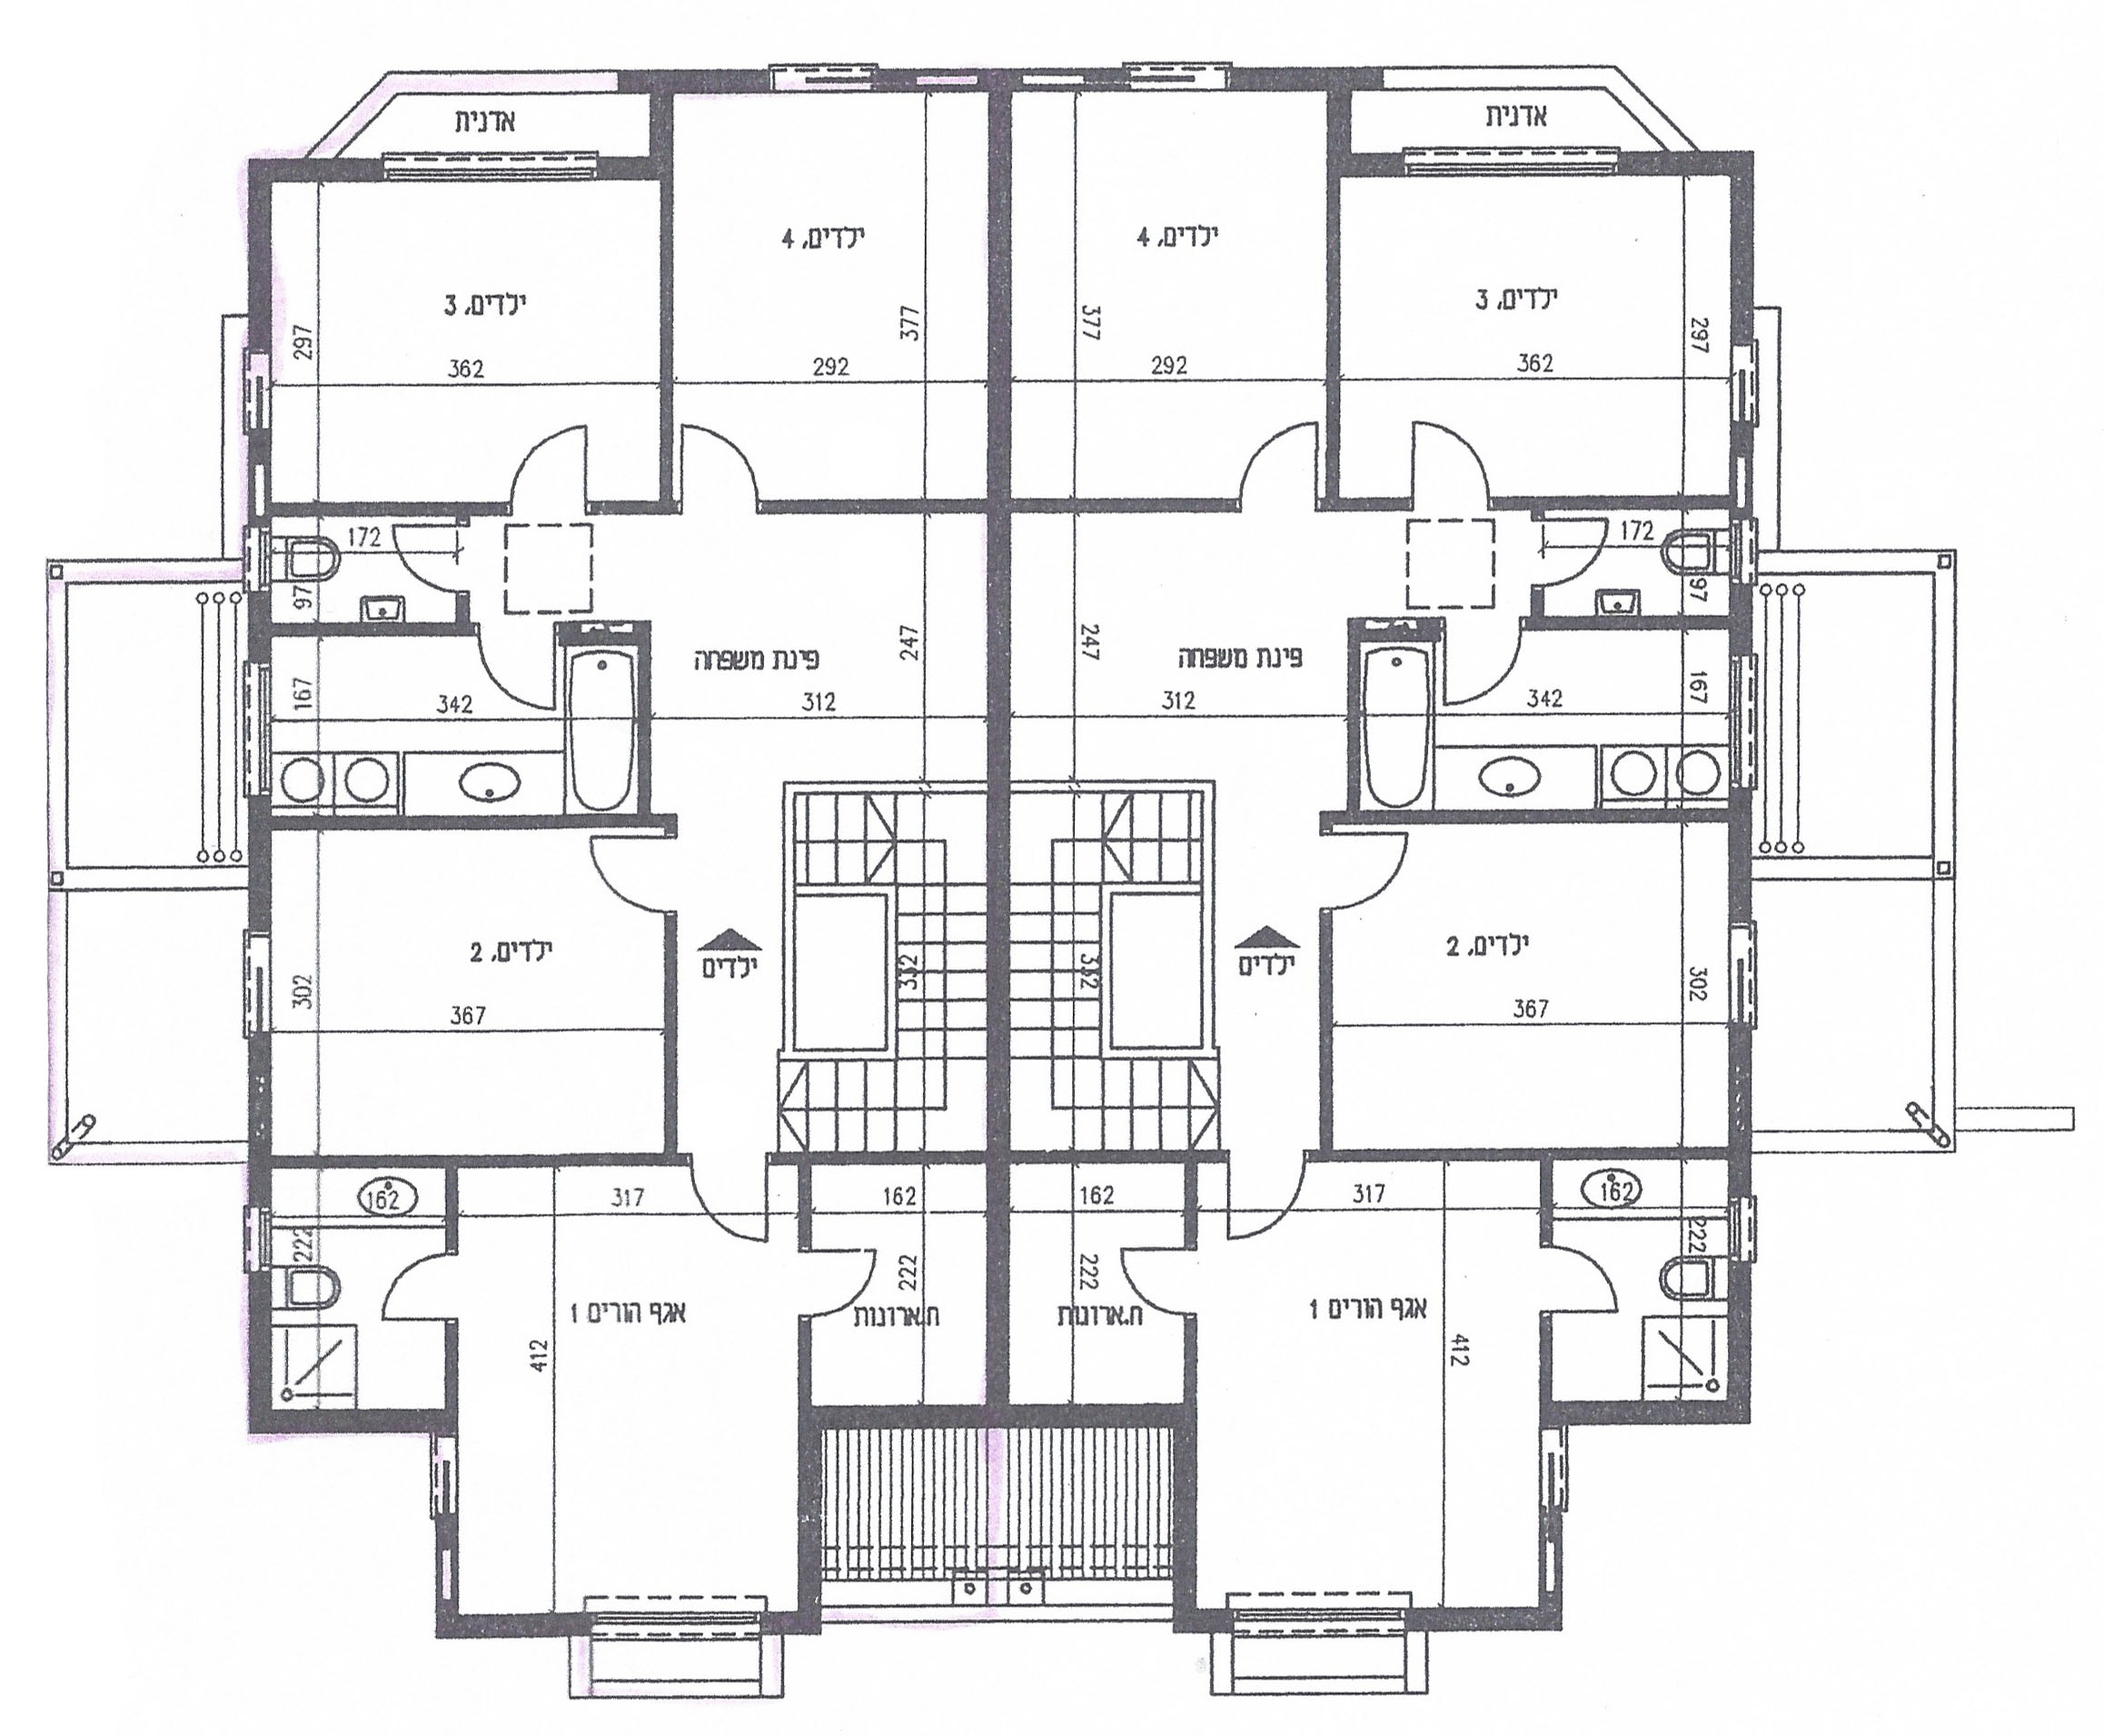wall: (987, 96, 1008, 1425)
